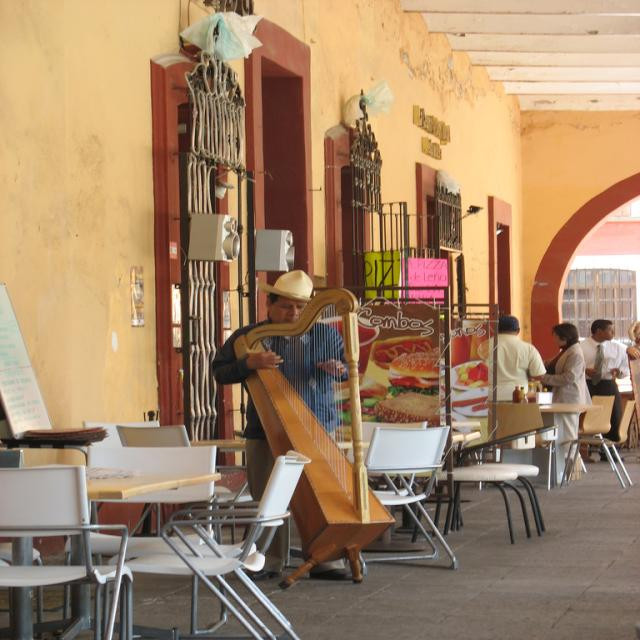harp: (227, 288, 400, 566)
